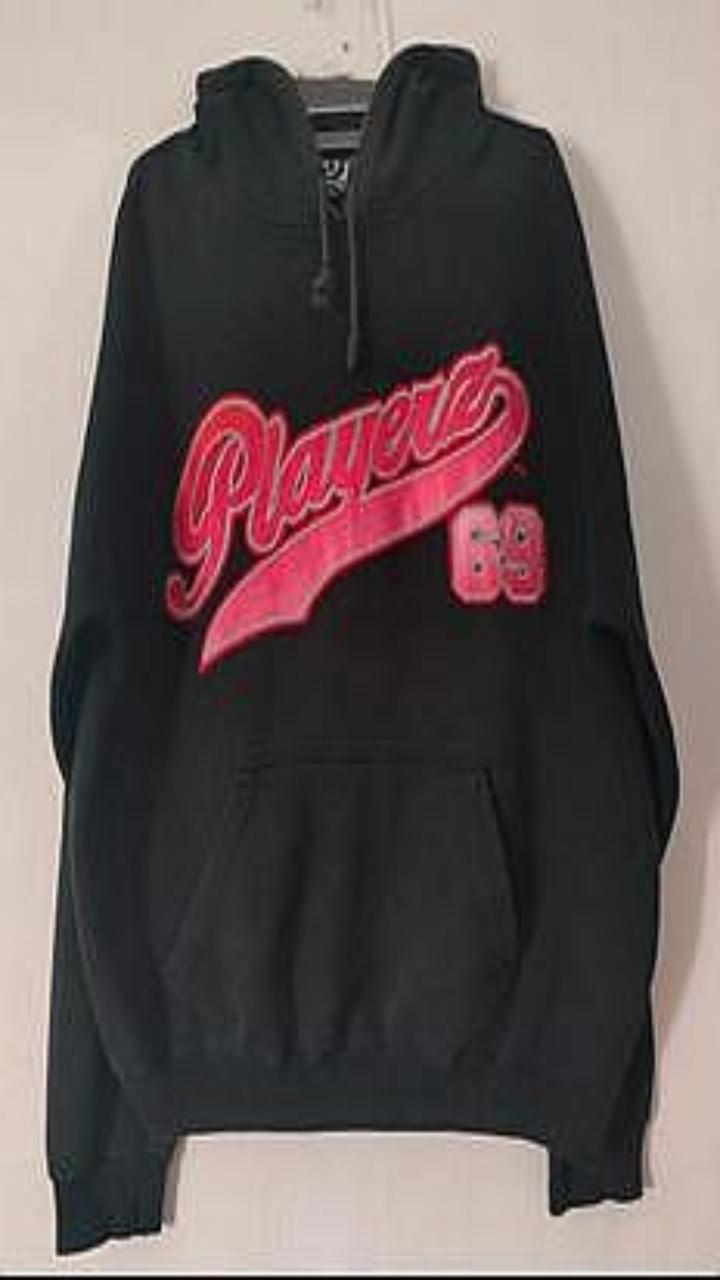Hoodie: (47, 43, 678, 1252)
